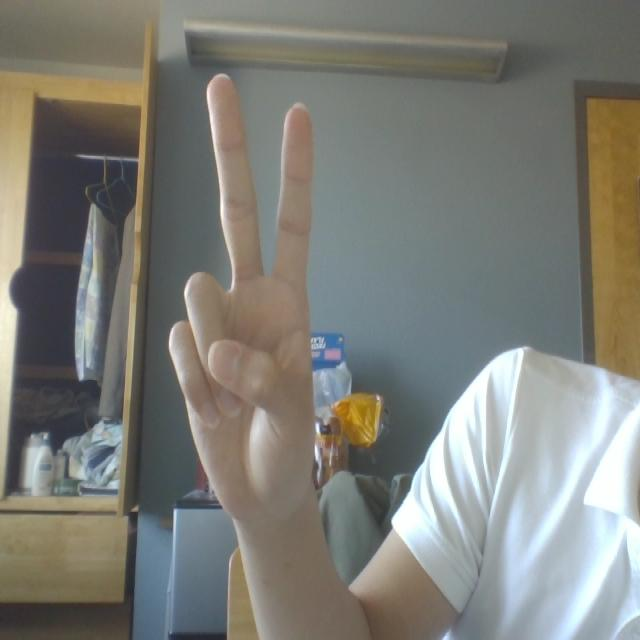V: (148, 58, 352, 518)
